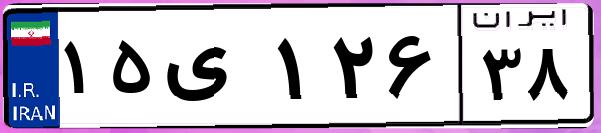1: (270, 28, 330, 110), (57, 26, 110, 100)
2: (330, 28, 385, 110)
3: (475, 38, 525, 113)
5: (110, 28, 158, 98)
6: (385, 28, 445, 110)
8: (525, 38, 570, 115)
ی: (158, 20, 270, 120)
